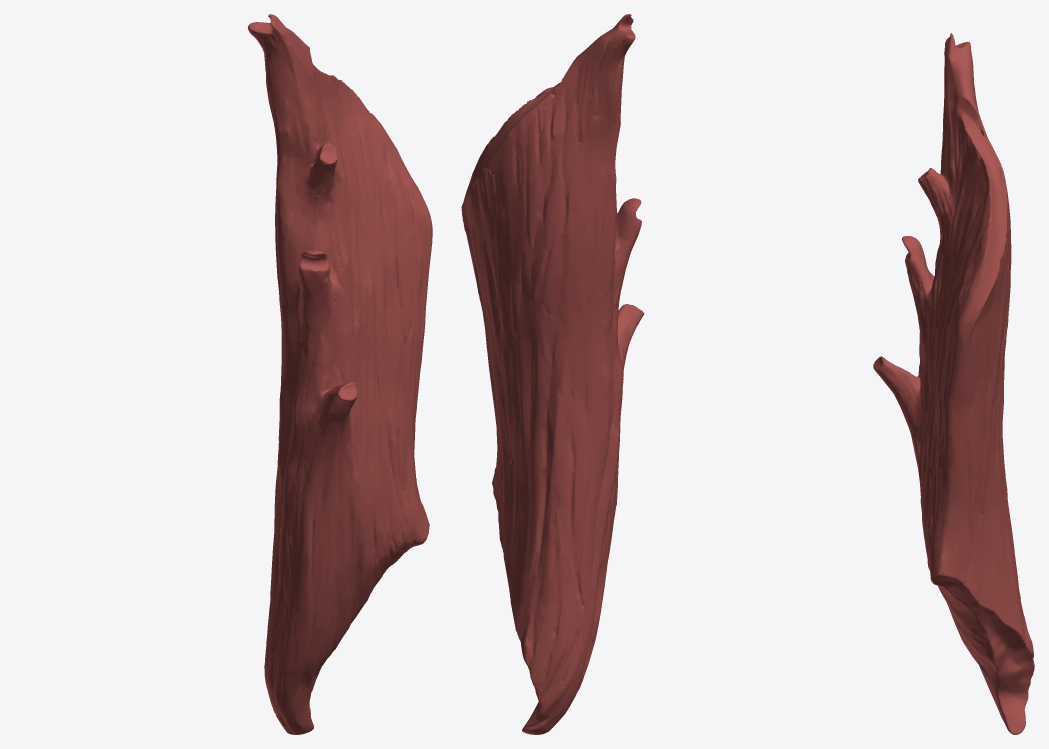
Rendered from FMA22349.glb.
The picture shows the model from 3 angles, left to right: view 1: azimuth 30°, elevation 25°; view 2: azimuth 150°, elevation 25°; view 3: azimuth 270°, elevation 25°; orthographic projection. The views are drawn at different scales.
Visible parts, largest first — view 1: FMA22349; view 2: FMA22349; view 3: FMA22349.
Boxes of the visible parts, <box> form: FMA22349: <box>248,14,432,734</box>; FMA22349: <box>461,14,644,734</box>; FMA22349: <box>873,33,1034,734</box>.
Bounding box in the file's own units: 0.1115 × 0.1998 × 0.0437.
